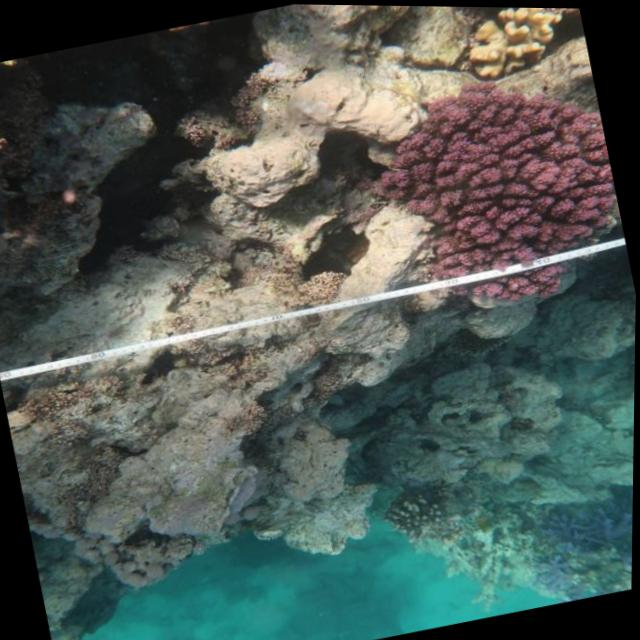Healthy Coral: (370, 55, 638, 334), (446, 5, 577, 88)
